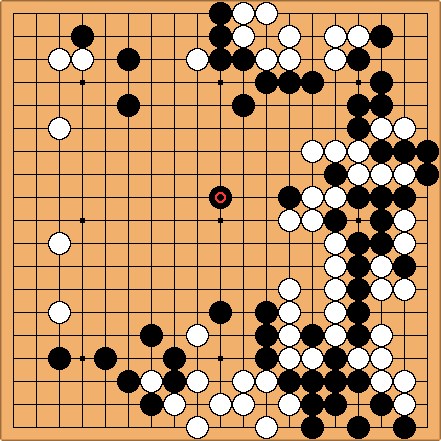black: (359, 198, 403, 242), (152, 337, 194, 379), (245, 291, 287, 333), (291, 60, 333, 102), (339, 85, 377, 123), (385, 177, 423, 215), (202, 17, 238, 53), (202, 40, 238, 76), (248, 317, 284, 353), (271, 63, 307, 99), (294, 363, 330, 399), (294, 386, 330, 422), (317, 363, 353, 399), (340, 225, 376, 261), (340, 248, 376, 284), (340, 271, 376, 307), (340, 294, 376, 330), (363, 225, 399, 261), (363, 86, 399, 122), (363, 178, 399, 214), (386, 132, 422, 168), (294, 410, 330, 441), (410, 132, 441, 168), (410, 155, 441, 191), (202, 1, 238, 30), (43, 343, 73, 373), (89, 343, 119, 373), (112, 43, 142, 73), (112, 89, 142, 119), (135, 320, 165, 350), (135, 389, 165, 419), (158, 366, 188, 396), (205, 297, 235, 327), (205, 181, 235, 211), (228, 43, 258, 73), (228, 89, 258, 119), (251, 343, 281, 373), (251, 66, 281, 96), (274, 366, 304, 396), (274, 181, 304, 211), (297, 320, 327, 350), (320, 205, 350, 235), (320, 343, 350, 373), (320, 389, 350, 419), (320, 158, 350, 188), (343, 205, 373, 235), (343, 320, 373, 350), (343, 366, 373, 396), (343, 112, 373, 142), (343, 181, 373, 211), (366, 389, 396, 419), (366, 66, 396, 96), (366, 135, 396, 165), (389, 251, 419, 281), (343, 413, 373, 441), (67, 21, 95, 49), (113, 367, 141, 395), (344, 44, 372, 72), (367, 21, 395, 49), (390, 414, 418, 441)
white: (50, 235, 66, 251), (50, 304, 66, 320), (50, 50, 66, 66), (50, 119, 66, 135), (73, 50, 89, 66), (142, 373, 158, 389), (165, 396, 181, 412), (188, 327, 204, 343), (188, 373, 204, 389), (188, 420, 204, 436), (188, 50, 204, 66), (212, 396, 228, 412), (235, 4, 251, 20), (235, 373, 251, 389), (235, 396, 251, 412), (235, 27, 251, 43), (258, 4, 274, 20), (258, 373, 274, 389), (258, 420, 274, 436), (258, 50, 274, 66), (281, 212, 297, 228), (281, 281, 297, 297), (281, 304, 297, 320), (281, 327, 297, 343), (281, 350, 297, 366), (281, 396, 297, 412), (281, 27, 297, 43), (281, 50, 297, 66), (304, 212, 320, 228), (304, 350, 320, 366), (304, 142, 320, 158), (304, 188, 320, 204), (327, 235, 343, 251), (327, 258, 343, 274), (327, 281, 343, 297), (327, 304, 343, 320), (327, 327, 343, 343), (327, 27, 343, 43), (327, 50, 343, 66), (327, 142, 343, 158), (327, 188, 343, 204), (350, 350, 366, 366), (350, 27, 366, 43), (350, 142, 366, 158), (350, 165, 366, 181), (373, 258, 389, 274), (373, 281, 389, 297), (373, 327, 389, 343), (373, 350, 389, 366), (373, 373, 389, 389), (373, 119, 389, 135), (373, 165, 389, 181), (396, 212, 412, 228), (396, 235, 412, 251), (396, 281, 412, 297), (396, 373, 412, 389), (396, 396, 412, 412), (396, 119, 412, 135), (396, 165, 412, 181)
